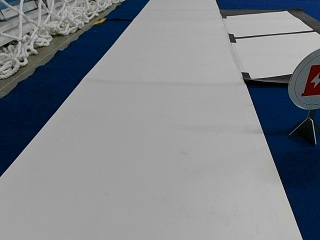battery: (289, 49, 319, 110)
